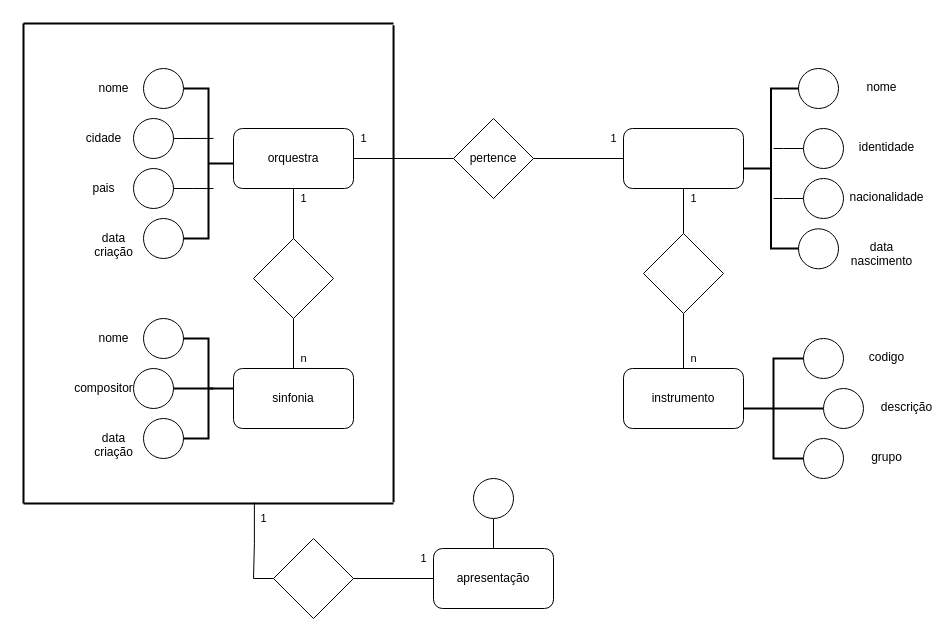
Some shapes in this 949 by 636 pixel diagram are drawn without their labels. The centre of each missing label's shape, as x and y in pixels:
"associa" goes at (313,578).
"data" goes at (493,498).
"executam" goes at (293,278).
"músico" goes at (683,158).
"toca" goes at (683,273).
